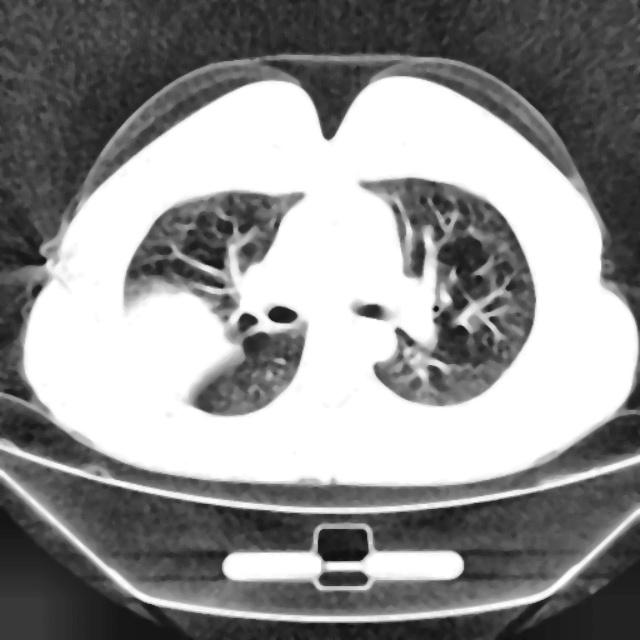covid: (20, 58, 637, 489)
